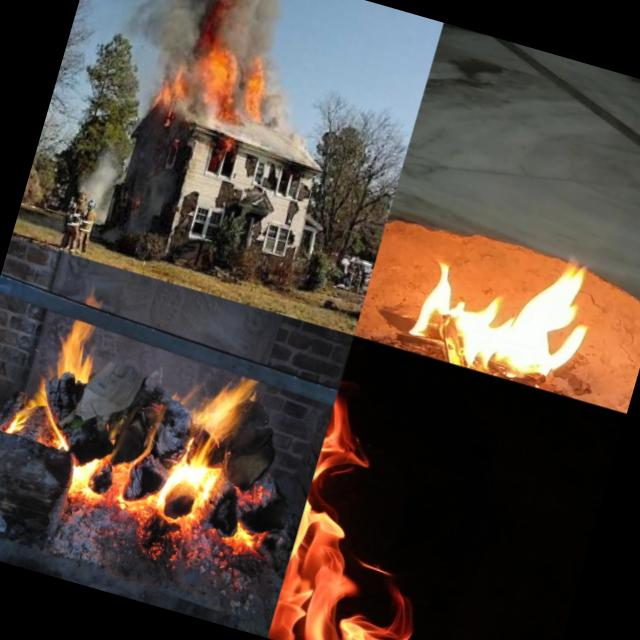fire: (0, 277, 338, 595), (267, 344, 528, 640), (390, 208, 628, 402), (154, 27, 276, 134)
smoke: (102, 0, 293, 52), (72, 141, 129, 204), (114, 10, 176, 58), (256, 80, 304, 135)
